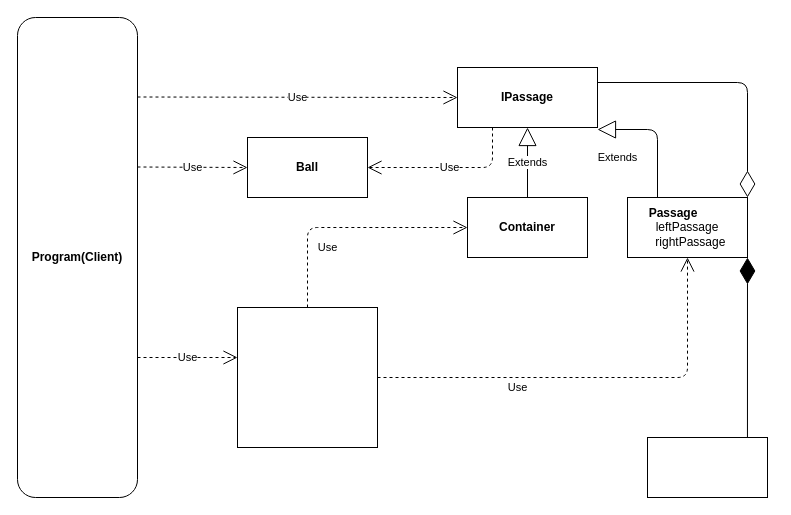
Some shapes in this 791 by 515 pixel diagram are drawn without their labels. The shapes that lost their labels are listed below. From the top down, each one's centre as x and y in pixels, then its label:
At point 307,377: "TreeMazeBuilder".
At point 707,467: "Gate direction".
